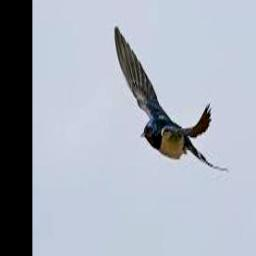Swallow: (114, 24, 228, 174)
